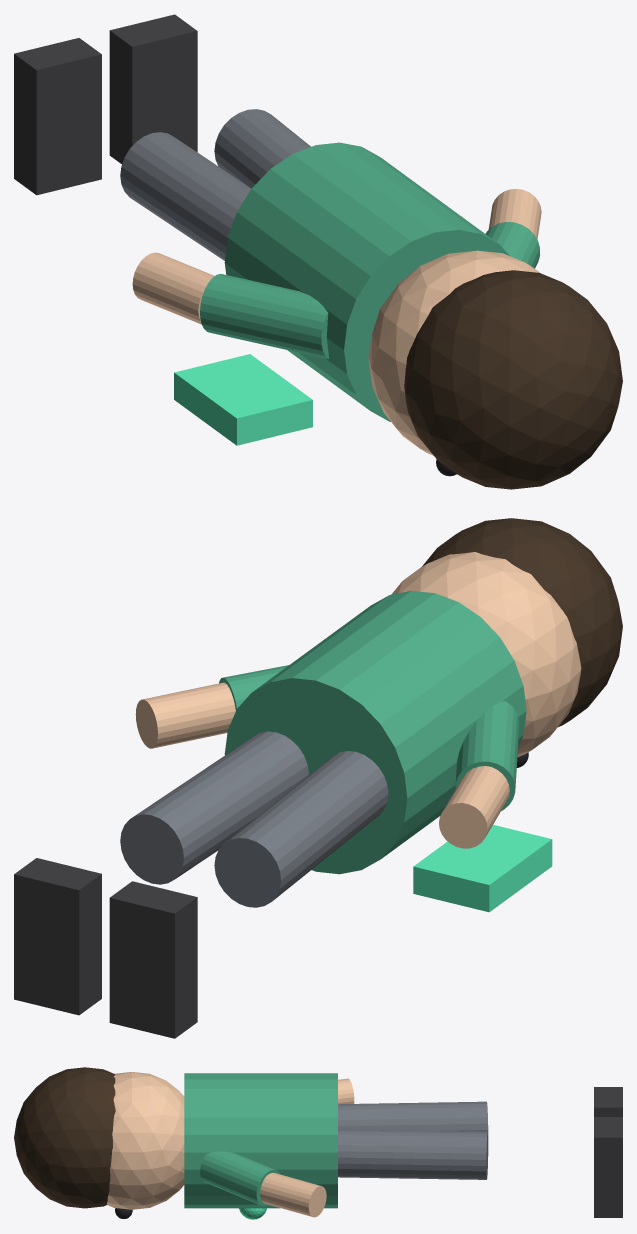
Rendered from CA_Buddy.glb.
The picture shows the model from 3 angles, top to bottom: view 1: azimuth 30°, elevation 25°; view 2: azimuth 150°, elevation 25°; view 3: azimuth 270°, elevation 25°; orthographic projection. The views are drawn at different scales.
Visible parts, largest first — view 1: hair, torso, shoe.L, shoe.R, leg.L, head, calculator, arm.L, leg.R, forearm.L, forearm.R, arm.R; view 2: torso, head, leg.L, leg.R, shoe.L, shoe.R, hair, calculator, forearm.R, forearm.L, arm.L, arm.R; view 3: torso, hair, head, leg.R, leg.L, shoe.R, arm.R, forearm.R, shoe.L, forearm.L, badge.
Boxes of the visible parts, x1,y1,x2,y2 form: hair: (404, 270, 622, 489); torso: (224, 142, 509, 421); shoe.L: (14, 38, 101, 195); shoe.R: (109, 14, 197, 163); leg.L: (120, 132, 251, 260); head: (368, 250, 540, 455); calculator: (174, 354, 312, 445); arm.L: (200, 274, 328, 358); leg.R: (214, 109, 310, 188); forearm.L: (132, 252, 214, 324); forearm.R: (488, 189, 541, 239); arm.R: (485, 222, 539, 268); torso: (224, 591, 526, 874); head: (391, 552, 581, 757); leg.L: (214, 751, 388, 907); leg.R: (120, 731, 308, 884); shoe.L: (109, 881, 197, 1038); shoe.R: (14, 858, 101, 1015); hair: (422, 518, 622, 726); calculator: (413, 825, 552, 912); forearm.R: (135, 682, 235, 748); forearm.L: (439, 766, 509, 848); arm.L: (455, 701, 519, 810); arm.R: (219, 665, 288, 710); torso: (184, 1073, 337, 1208); hair: (14, 1067, 115, 1208); head: (107, 1072, 184, 1209); leg.R: (338, 1129, 488, 1179); leg.L: (338, 1101, 488, 1136); shoe.R: (594, 1117, 622, 1217); arm.R: (200, 1151, 280, 1206); forearm.R: (260, 1172, 326, 1217); shoe.L: (594, 1087, 622, 1116); forearm.L: (338, 1078, 354, 1104); badge: (239, 1208, 266, 1219).
Size of the model in its own units: 1.75 by 0.99 by 3.77.
